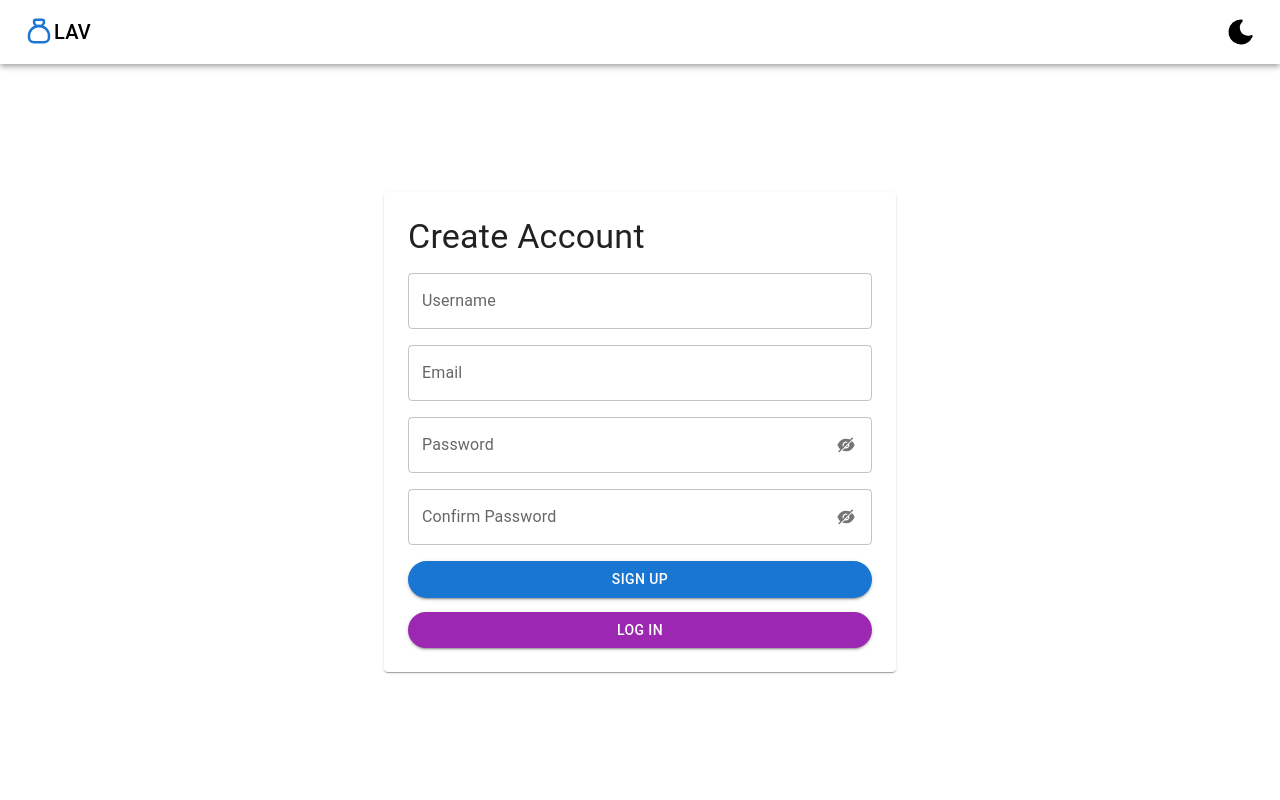
it: Signup Page › Errors will show when submitting without inputting information
What coordinates should you click on to do the following:
click the button "Sign Up"
I would click on:
 (640, 580)
Its box is [408,562,872,598].
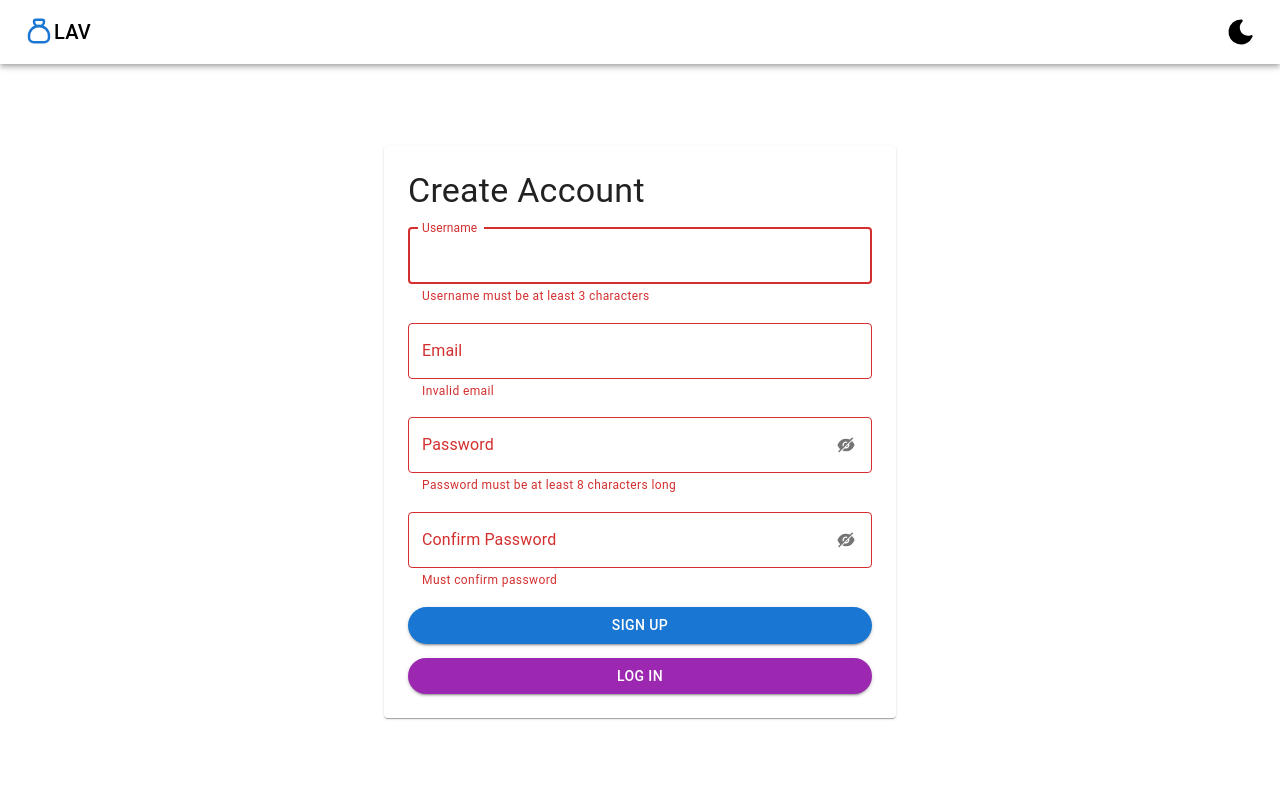
Result: the text "Username must be at least 3 characters" is shown at [422,289,650,303]
Result: the text "Invalid email" is shown at [422,384,494,398]
Result: the text "Password must be at least 8 characters long" is shown at [422,478,676,492]
